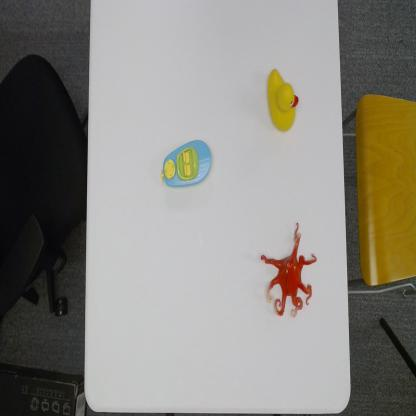Boat: (158, 136, 213, 192)
Duck: (265, 65, 300, 135)
Octopus: (260, 218, 318, 320)
